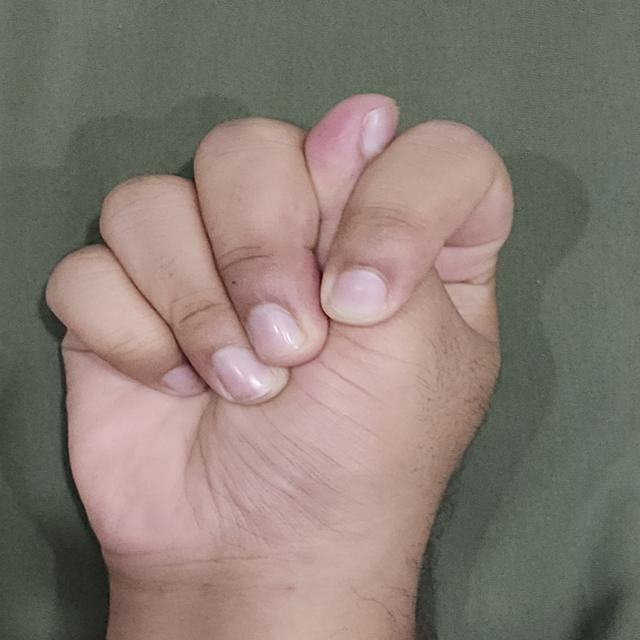ب: (25, 80, 529, 640)
